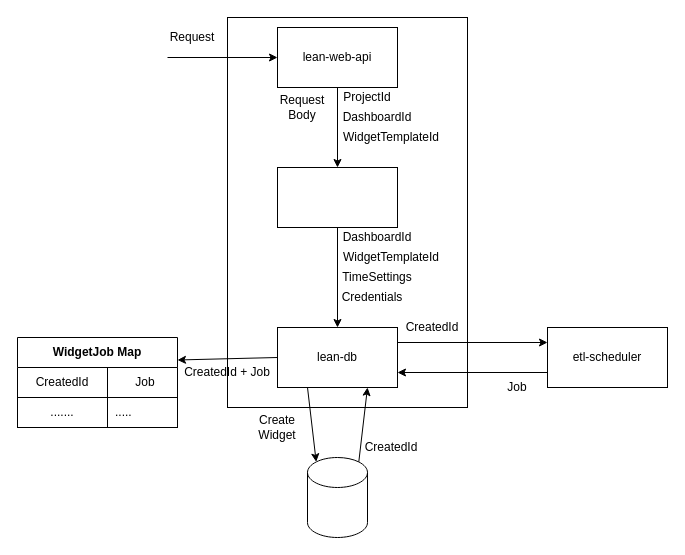
This 685x555 diagram has some shape labels left out. The centre of each missing label's shape, as x and y in pixels:
DB: [337,497]
lean-services: [337,197]
